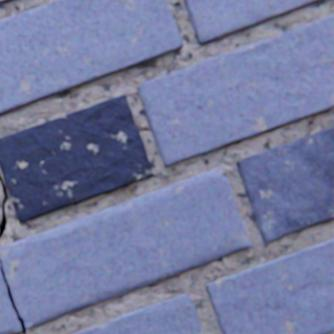brick: (136, 17, 333, 167), (0, 0, 182, 115), (0, 95, 152, 223), (205, 239, 333, 333), (235, 127, 333, 242), (182, 0, 326, 45), (74, 294, 203, 333), (0, 0, 16, 5)
broken_brick: (0, 167, 251, 333)
crack: (1, 266, 26, 333), (0, 174, 8, 238)
